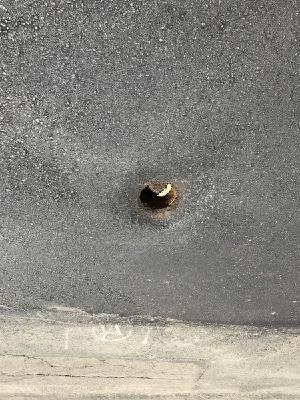pothole: (133, 179, 181, 215)
